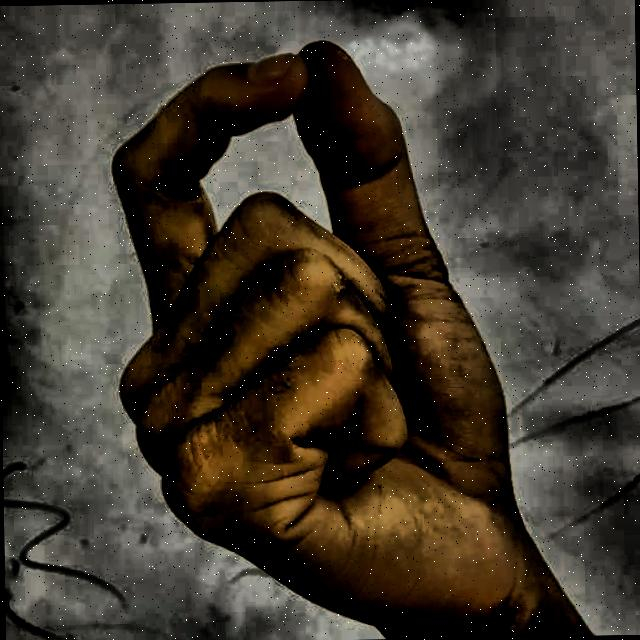Gha: (71, 19, 574, 640)
